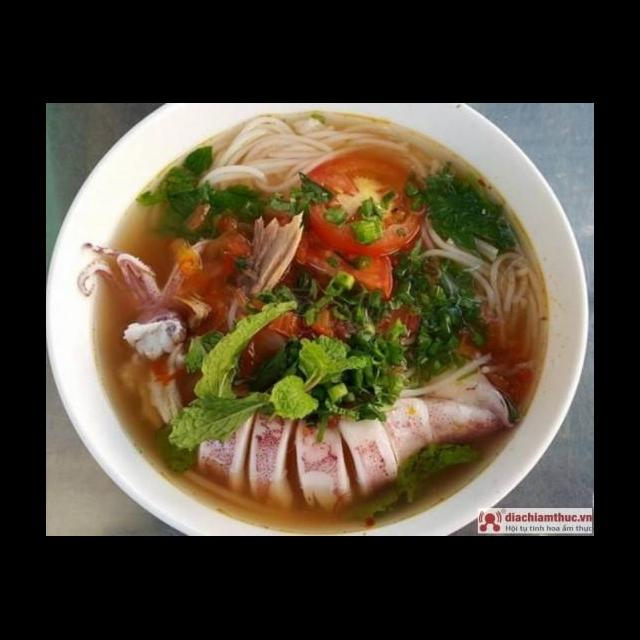bun: (412, 210, 551, 380), (192, 106, 421, 206)
muc: (186, 349, 525, 516), (75, 232, 221, 366)
